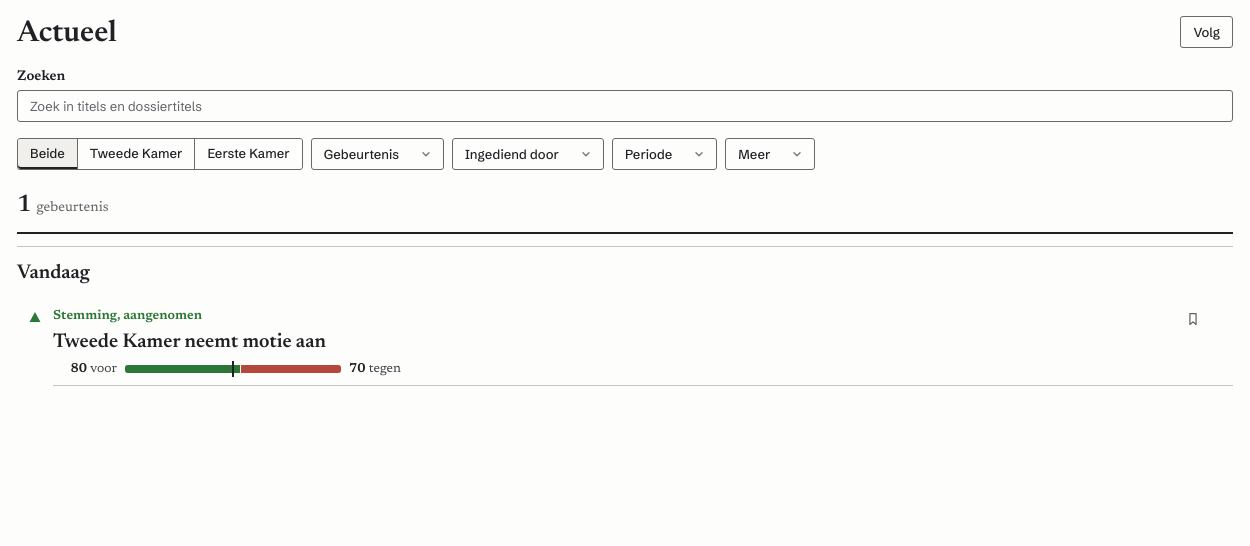
Test: the votes of a fractie on Actueel (B5) › keeps who submitted apart from who voted, each under its own name
Note: Stemde stands under Meer in the bar of filters.
Click the button "Meer" at (770, 154), box [725,138,816,170]
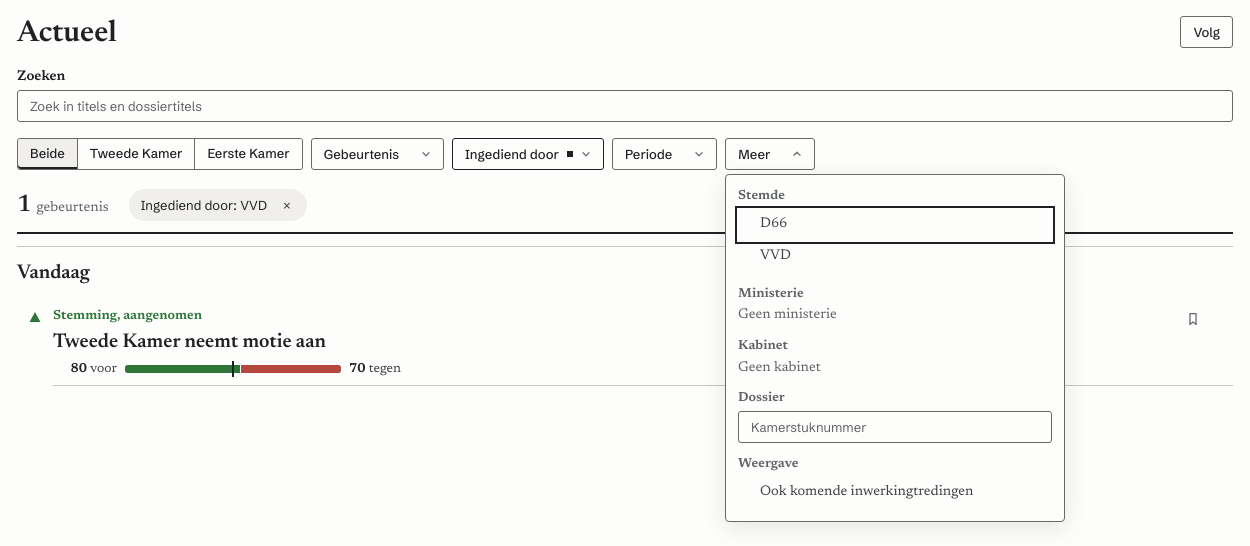
Result: the text "Stemde" is shown at [738,187,785,204]
